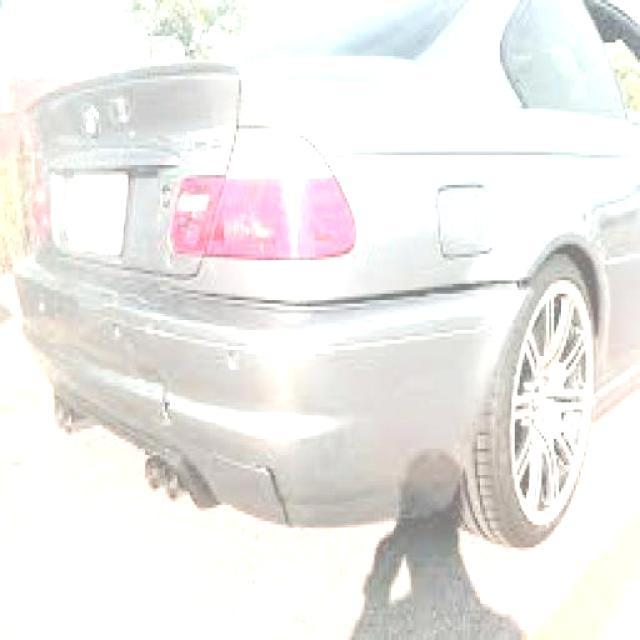car damage: (259, 269, 530, 333), (146, 364, 188, 434)
